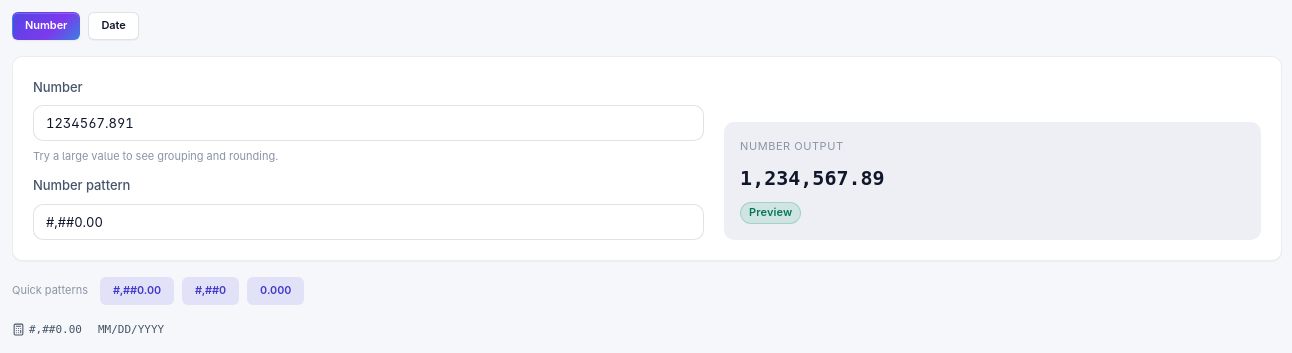
Test: FormatPlayground › switches to dates and applies edited patterns
The image size is (1292, 353).
Click the button "Date" at x=114, y=26, box [88, 12, 139, 40]
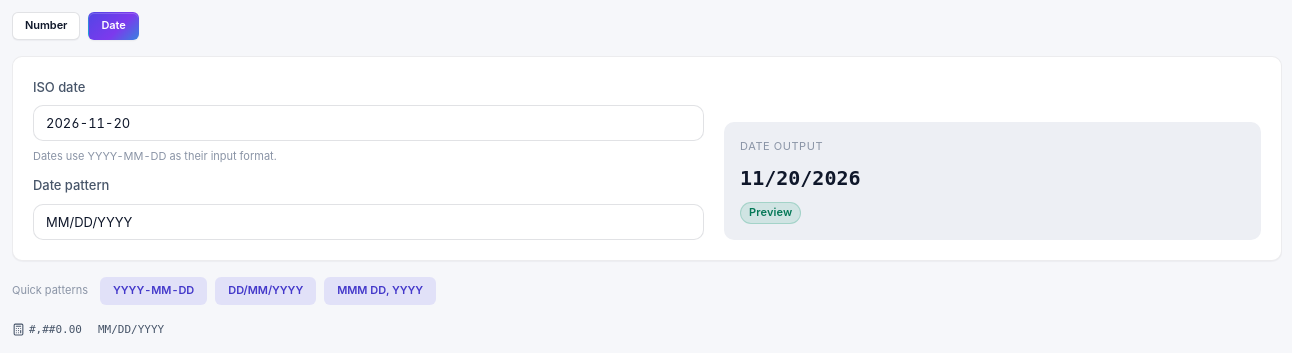
Expected: the field labelled "ISO date" is shown, [33, 105, 704, 141]
Now the text with test id "format-output" reads "11/20/2026", box [740, 166, 860, 190]
Replace the text in the field labelled "Date pattern" with "DD/MM/YYYY" at x=369, y=222, box [33, 204, 704, 240]
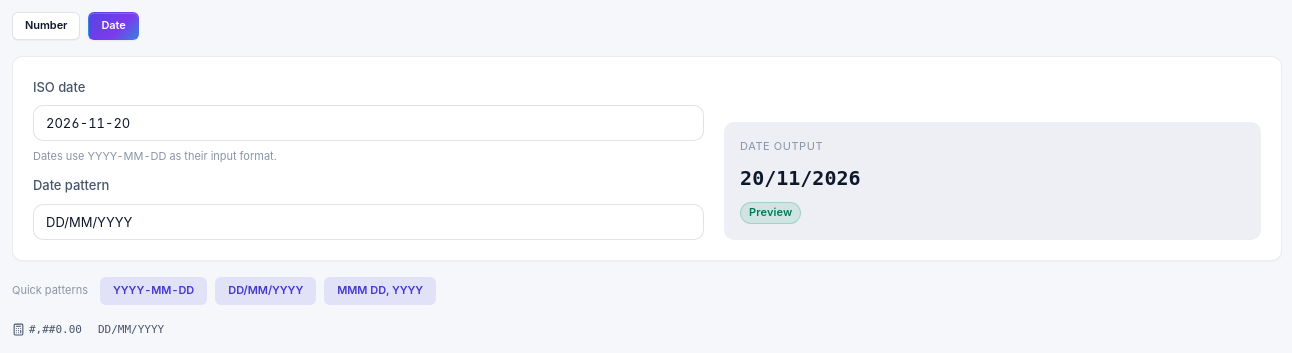
Now the text with test id "format-output" reads "20/11/2026", box [740, 166, 860, 190]
